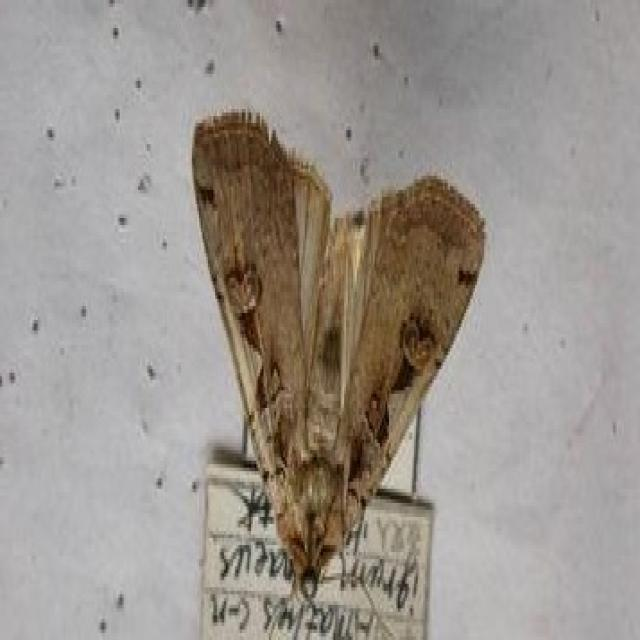black cutworm: (176, 91, 489, 608)
